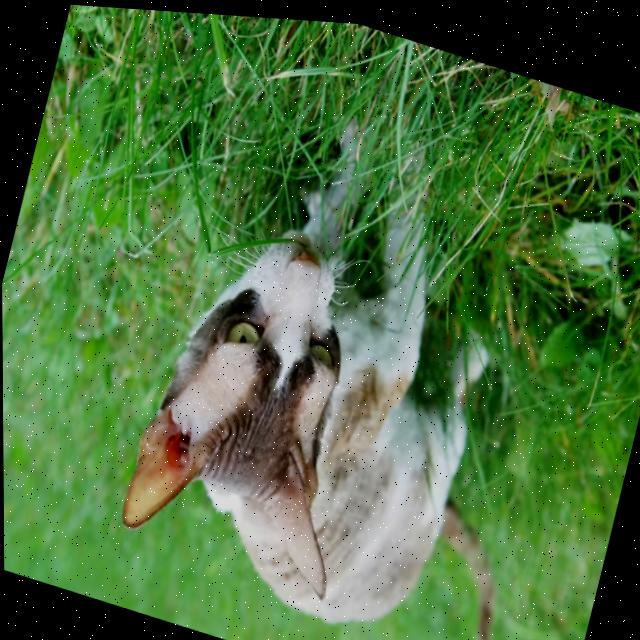Cornish Rex: (101, 42, 614, 640)
